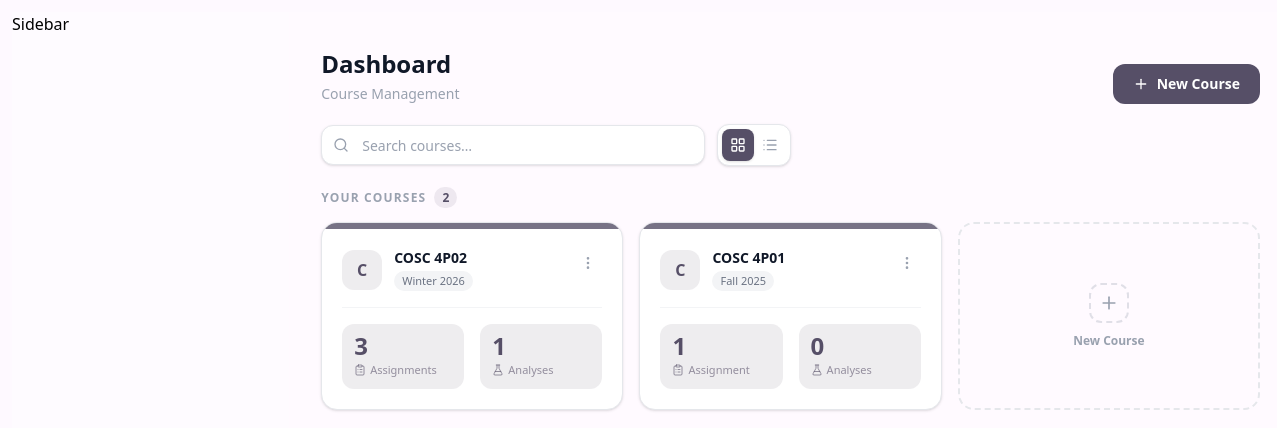
Test: HomePage › filters courses using the search input
Expected: the text "COSC 4P02" is shown, [394,249,473,266]
In the field with placeholder "Search courses…": point(513, 145) [321,125,705,165], type "4P01"
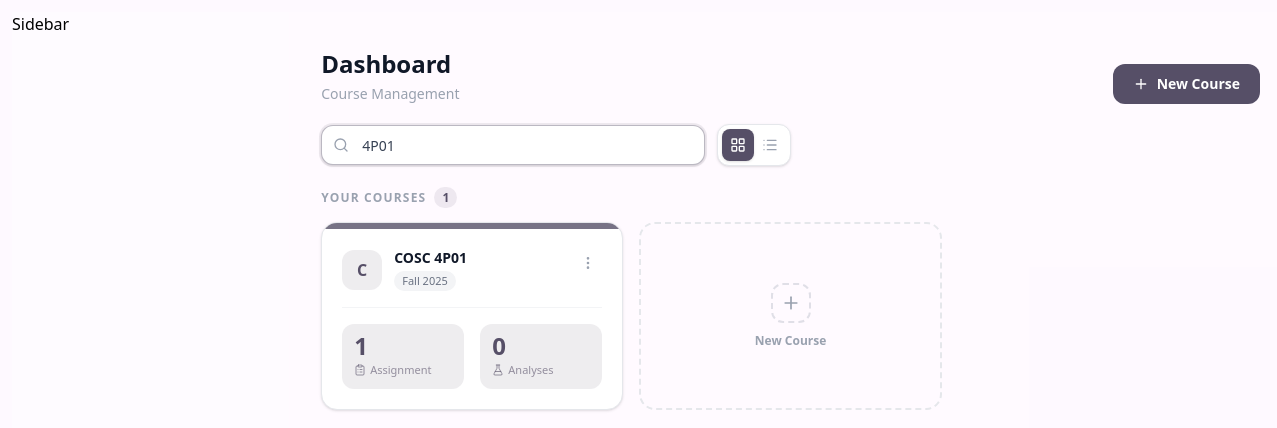
Expected: the text "COSC 4P01" is shown, [394,249,467,266]
Expected: the link "COSC 4P02" is gone
